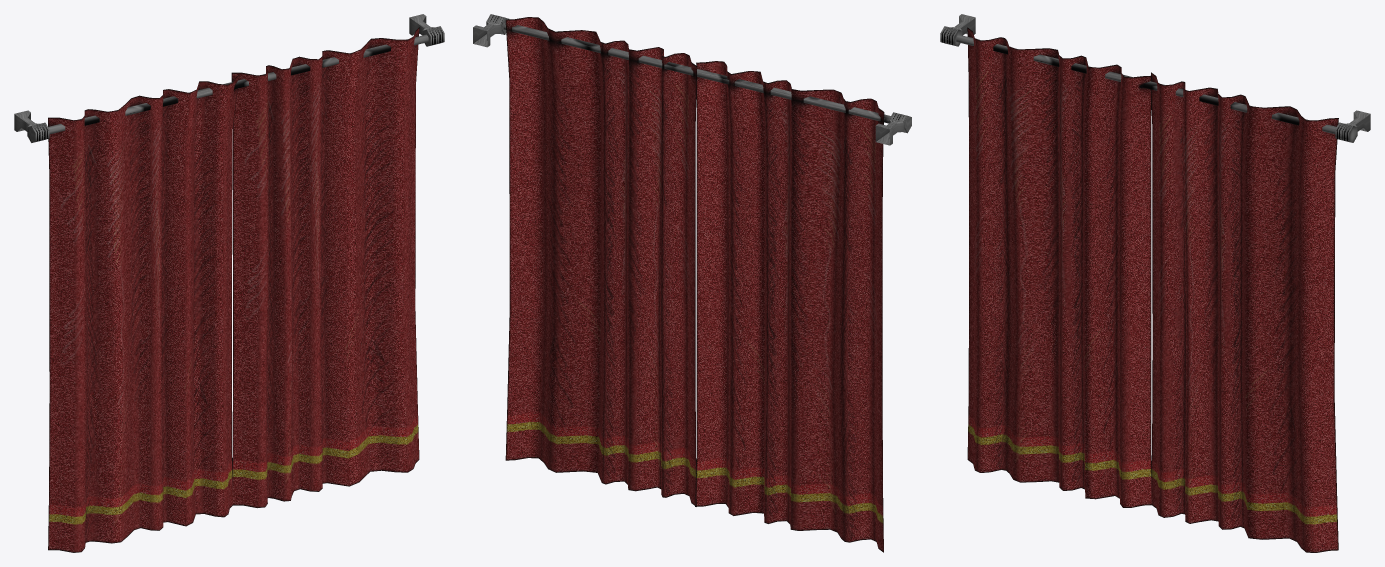
File: littleCurtains.fbx
3 views of the same model, side by side, from view 1: azimuth 30°, elevation 25°; view 2: azimuth 150°, elevation 25°; view 3: azimuth 330°, elevation 25° (orthographic).
Visible parts, largest first — view 1: polySurface1626; view 2: polySurface1626; view 3: polySurface1626.
Part boxes in pixels (x1,y1,x2,y2): polySurface1626: [14, 14, 444, 552]; polySurface1626: [473, 14, 911, 552]; polySurface1626: [940, 14, 1370, 552].
Size of the model in its own units: 249 by 252 by 26.8.
